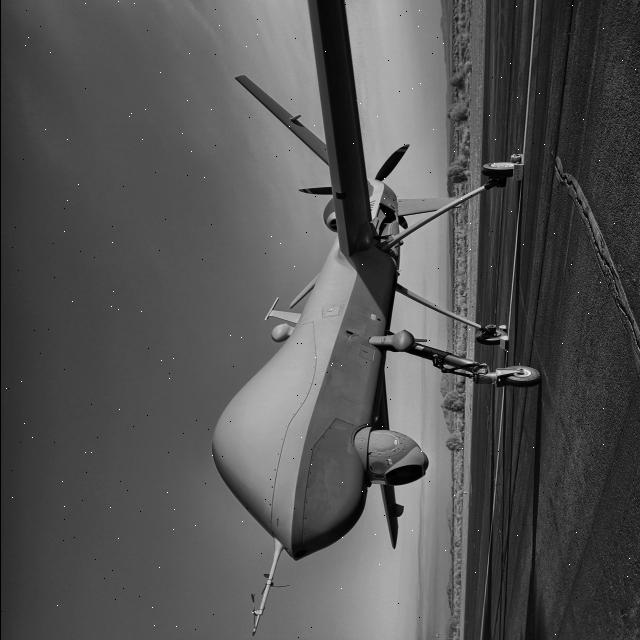MQ9: (152, 0, 552, 634)
